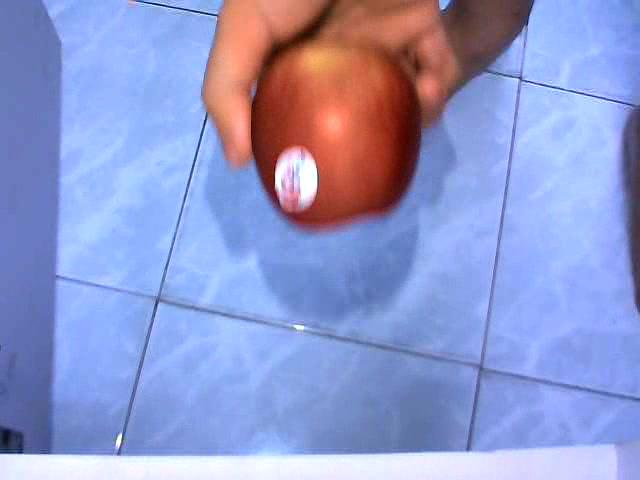apple: (246, 41, 423, 227)
